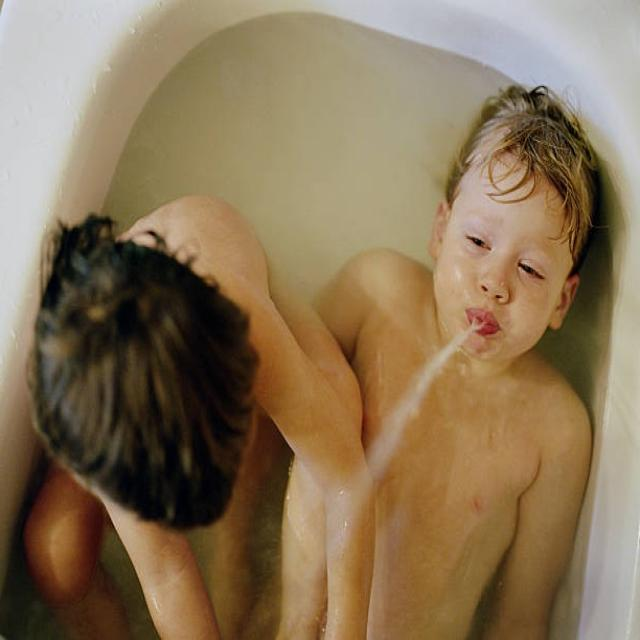Spitting: (386, 84, 598, 474)
